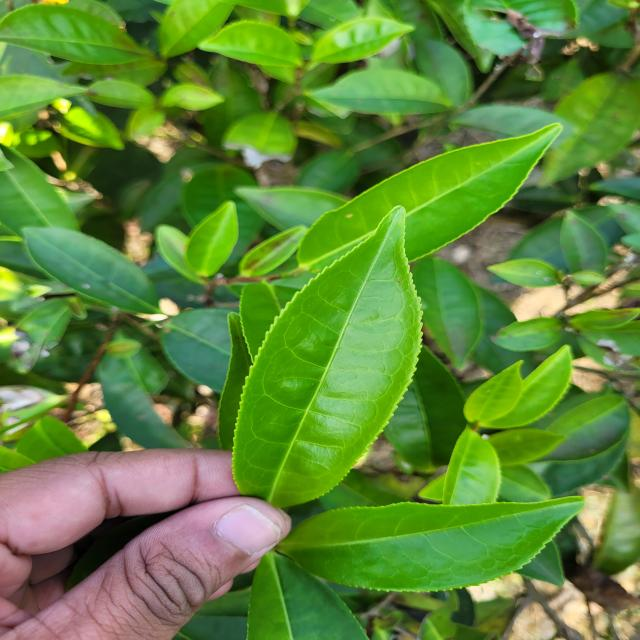Category B(2-4 days): (182, 184, 463, 531)
